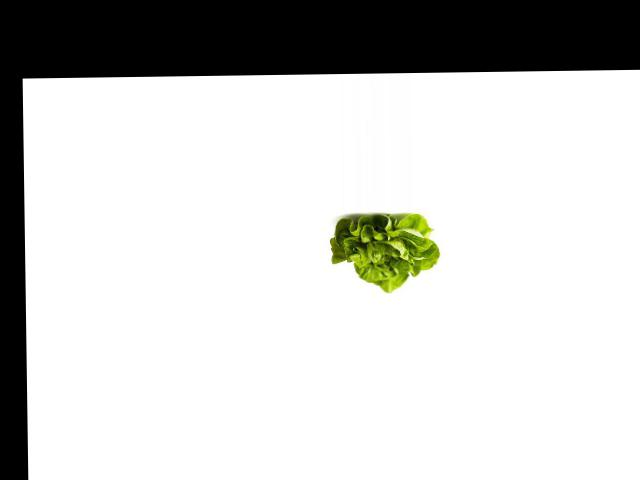lettuce: (327, 212, 443, 292)
